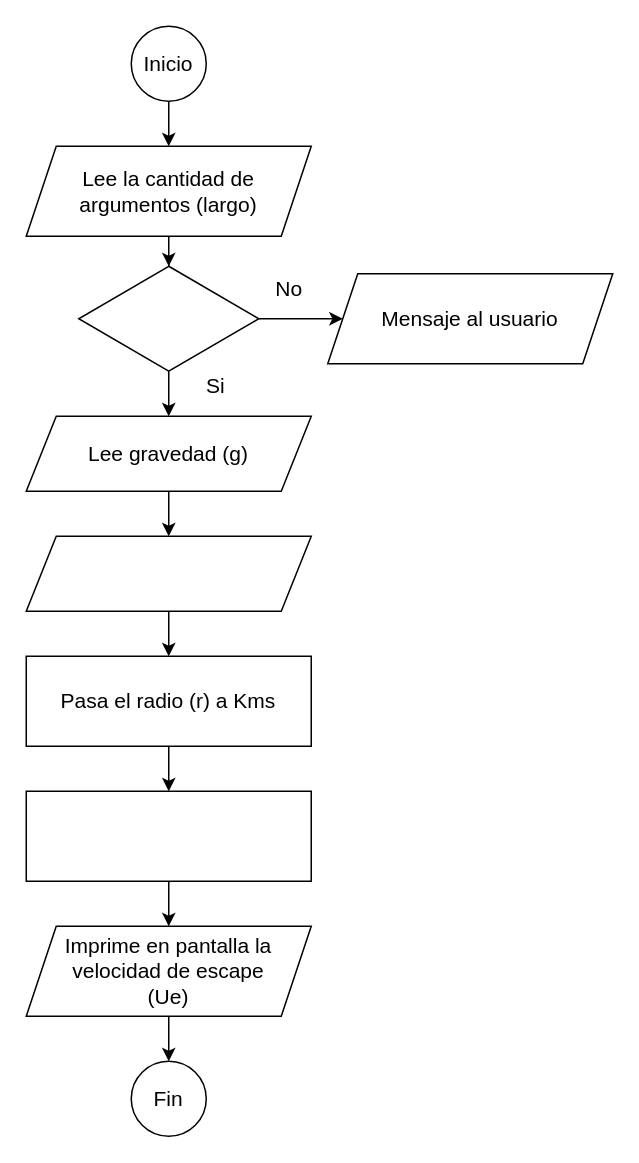
Image size: 639x1163. Some labels were removed from this diagram. The box of each missing label's shape, as (x1, y1, x2, y2) in pixels:
Calcula la velocidad de escape (Ue): (25, 790, 311, 881)
largo > 2: (77, 265, 259, 371)
Lee radio (r): (25, 535, 311, 611)
